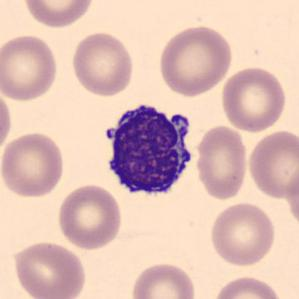Lymphocyte: (96, 95, 200, 206)
RBC: (156, 23, 235, 97), (218, 64, 288, 134), (55, 182, 125, 251), (208, 200, 278, 268), (10, 238, 88, 299), (0, 129, 67, 200), (69, 30, 135, 98), (194, 123, 249, 202), (0, 32, 61, 103), (245, 127, 298, 200), (128, 259, 198, 299), (21, 0, 96, 29), (211, 273, 284, 299), (283, 162, 299, 232), (0, 87, 14, 156)
